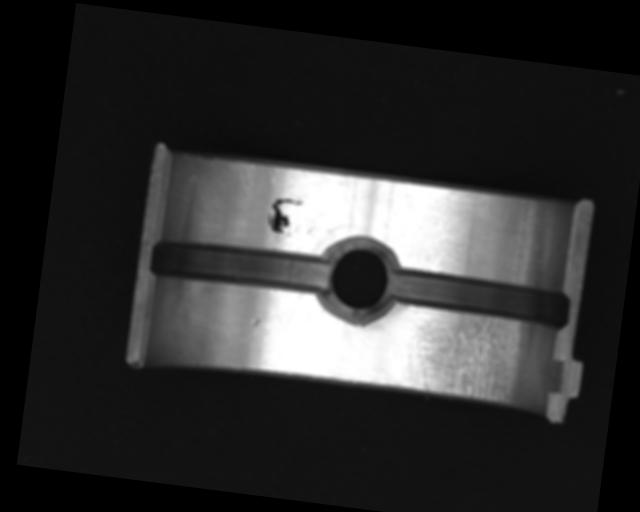blot: (264, 193, 305, 239)
bruise: (250, 317, 261, 327)
gap: (146, 233, 334, 301), (387, 268, 574, 328)
hole: (315, 233, 407, 329)
nick: (426, 251, 444, 273)
scratch: (393, 303, 534, 407)
